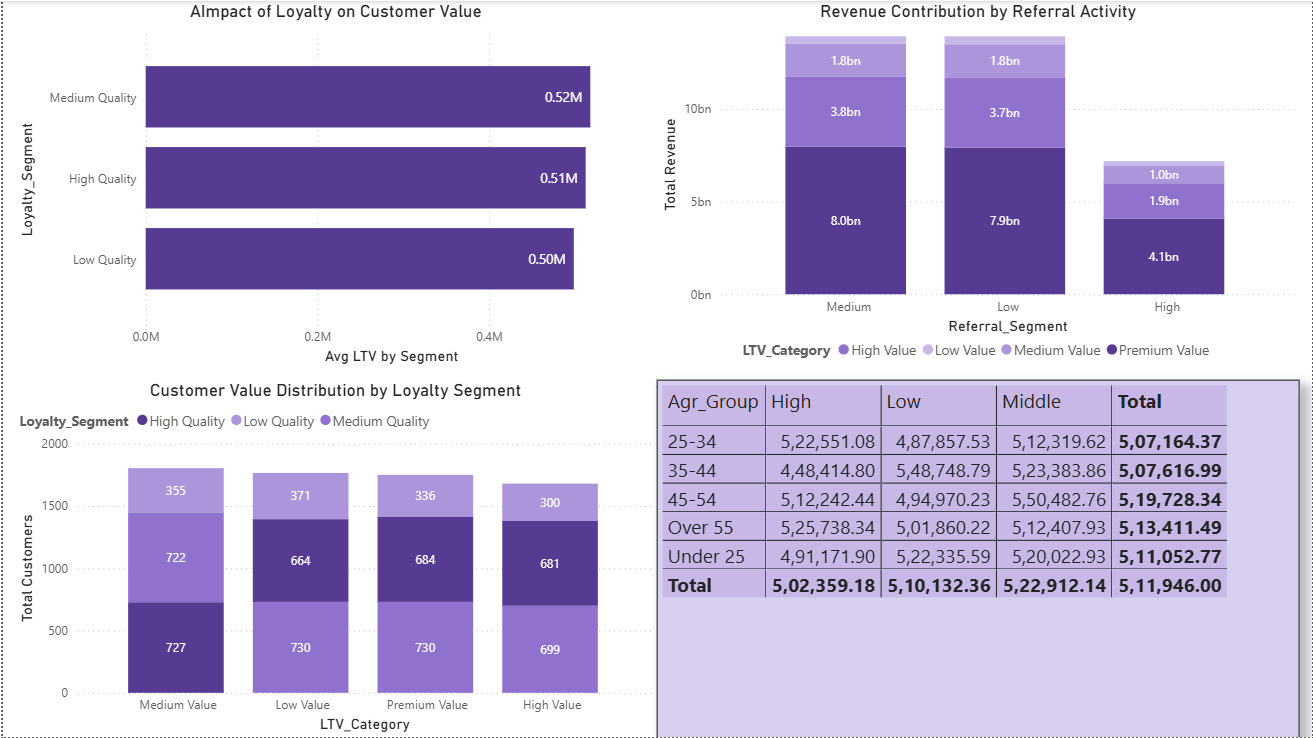

What the dashboard file says about the page in this screenshot:
{"tool":"powerbi","page":{"name":"Customer Value, Loyalty & Referrals Analysis","canvas":[1280,720],"ordinal":1},"visuals":[{"type":"clusteredBarChart","title":"AImpact of Loyalty on Customer Value","fields":{"Category":["digital_wallet_ltv_dataset.Loyalty_Segment"],"Y":["digital_wallet_ltv_dataset.Avg LTV by Segment"]},"box":[10.6,0,629.2,360.2],"z":0},{"type":"columnChart","title":"Revenue Contribution by Referral Activity","fields":{"Category":["digital_wallet_ltv_dataset.Referral_Segment"],"Series":["digital_wallet_ltv_dataset.LTV_Category"],"Y":["digital_wallet_ltv_dataset.Total Revenue"]},"box":[639.9,0,629.2,360.2],"z":1000},{"type":"columnChart","title":"Customer Value Distribution by Loyalty Segment","fields":{"Category":["digital_wallet_ltv_dataset.LTV_Category"],"Series":["digital_wallet_ltv_dataset.Loyalty_Segment"],"Y":["digital_wallet_ltv_dataset.Total Customers"]},"box":[11,370,629,350],"z":2000},{"type":"pivotTable","fields":{"Columns":["digital_wallet_ltv_dataset.Income_Level"],"Rows":["digital_wallet_ltv_dataset.Agr_Group"],"Values":["digital_wallet_ltv_dataset.Avg LTV by Segment"]},"box":[640,370,629,350],"z":3000}]}

Visuals, with their boxes in screenshot pixels (x1, y1, x2, y2), scaled from the page's 1280x720 canvas onto the 1313x738 screenshot:
"AImpact of Loyalty on Customer Value" clusteredBarChart: 11,0,656,369
"Revenue Contribution by Referral Activity" columnChart: 656,0,1302,369
"Customer Value Distribution by Loyalty Segment" columnChart: 11,379,656,737
pivotTable - digital_wallet_ltv_dataset.Income_Level x digital_wallet_ltv_dataset.Agr_Group: 656,379,1302,737
